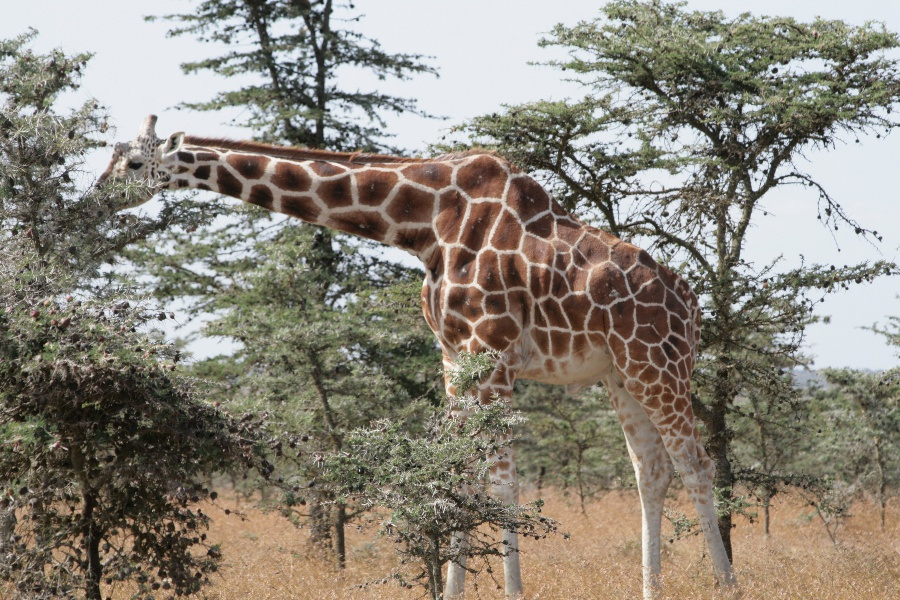giraffe: (79, 115, 750, 587)
